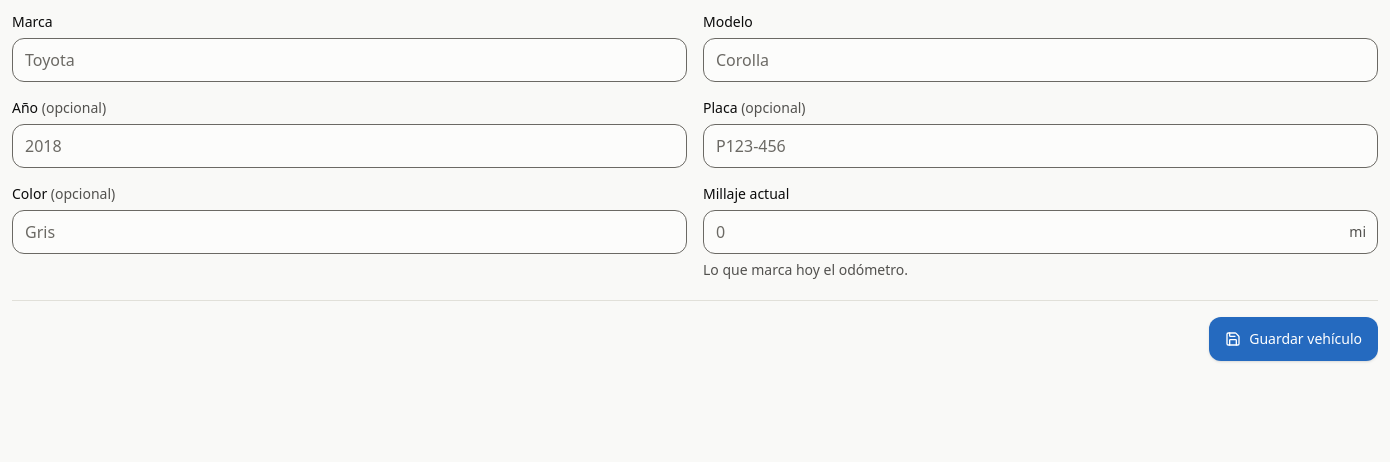
Test: VehicleForm al registrar › muestra en su campo los errores del backend
Type "Nissan" into the field labelled "Marca" at (350, 60), box [12,38,687,82]
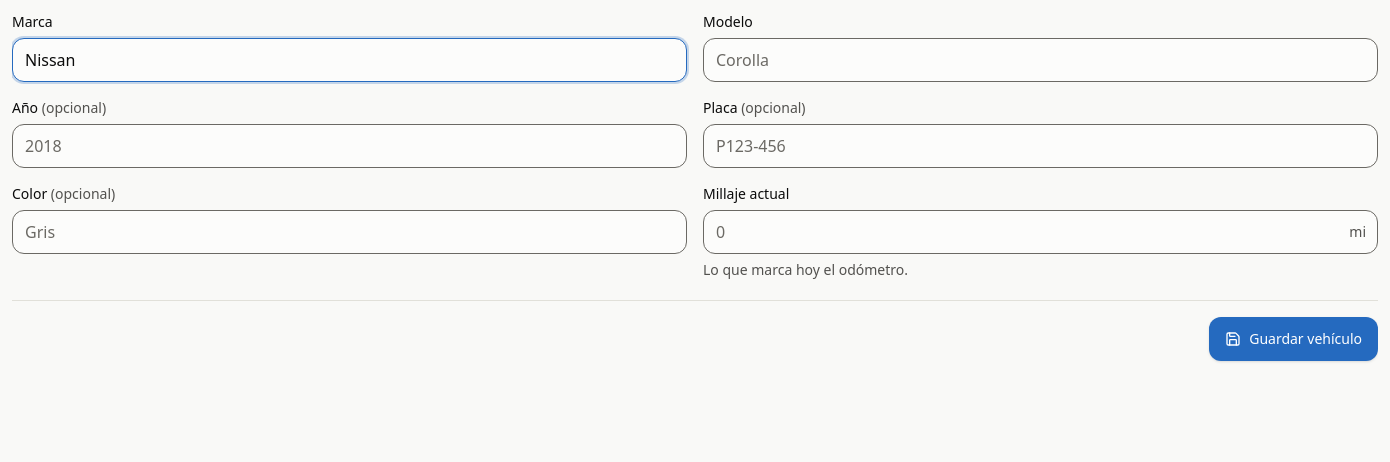
Type "Sentra" into the field labelled "Modelo" at (1040, 60), box [703,38,1378,82]
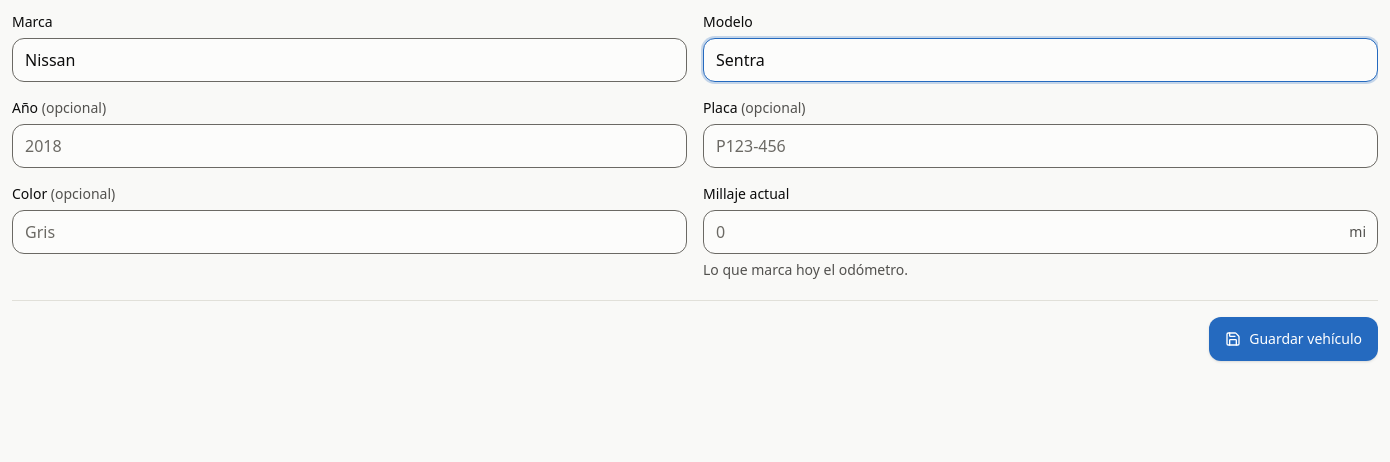
Type "P555-000" into the field labelled "Placa (opcional)" at (1040, 146), box [703,124,1378,168]
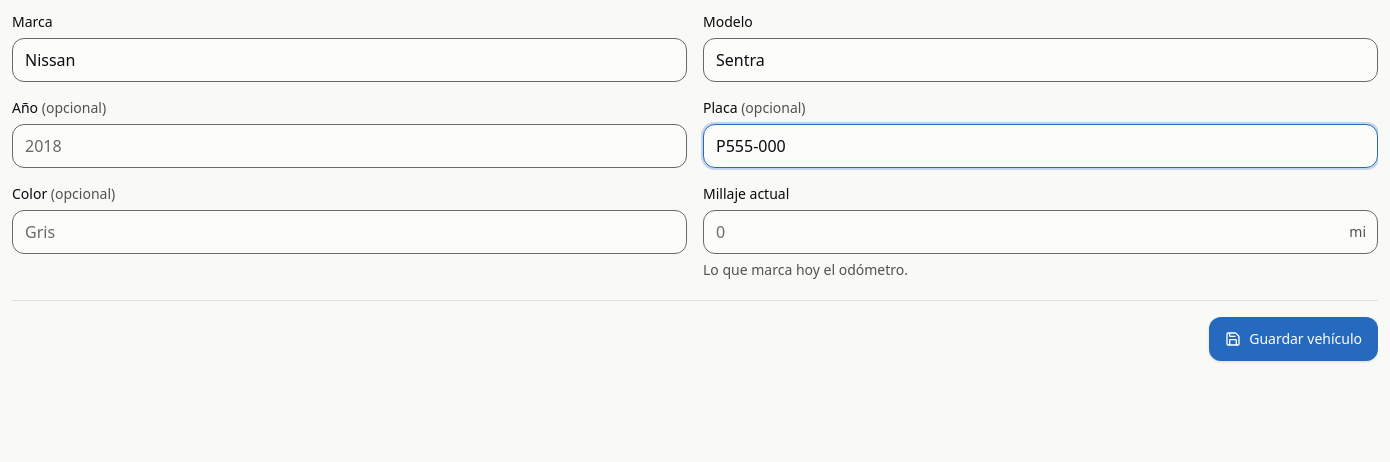
Click the button "Guardar vehículo" at (1294, 339), box [1209,317,1378,361]
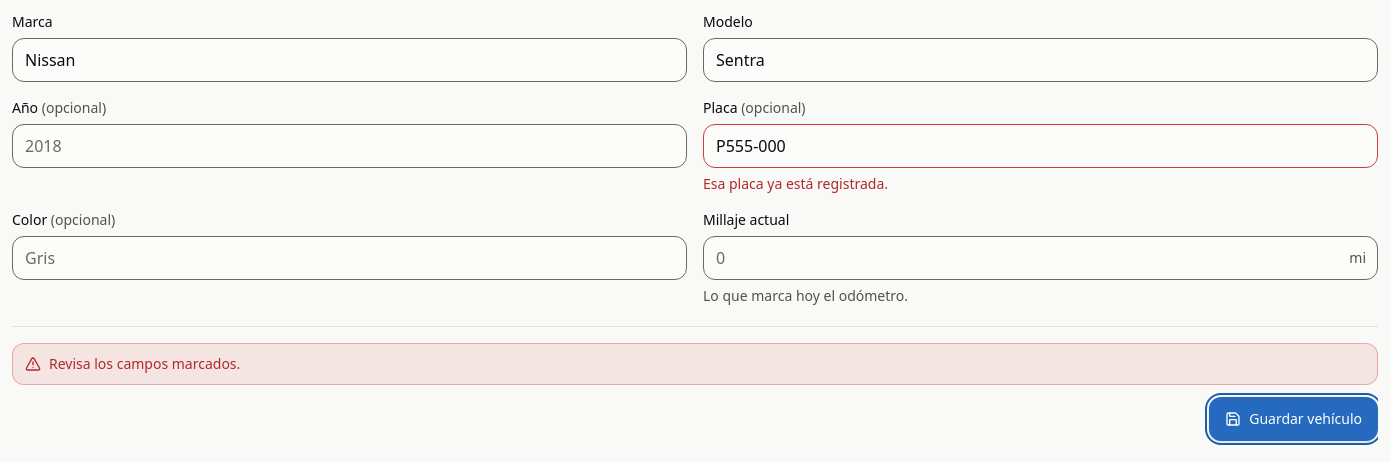
Expected: the text "Esa placa ya está registrada." is shown, [703,174,888,193]
Expected: the text "Revisa los campos marcados." is shown, [49,354,240,374]
